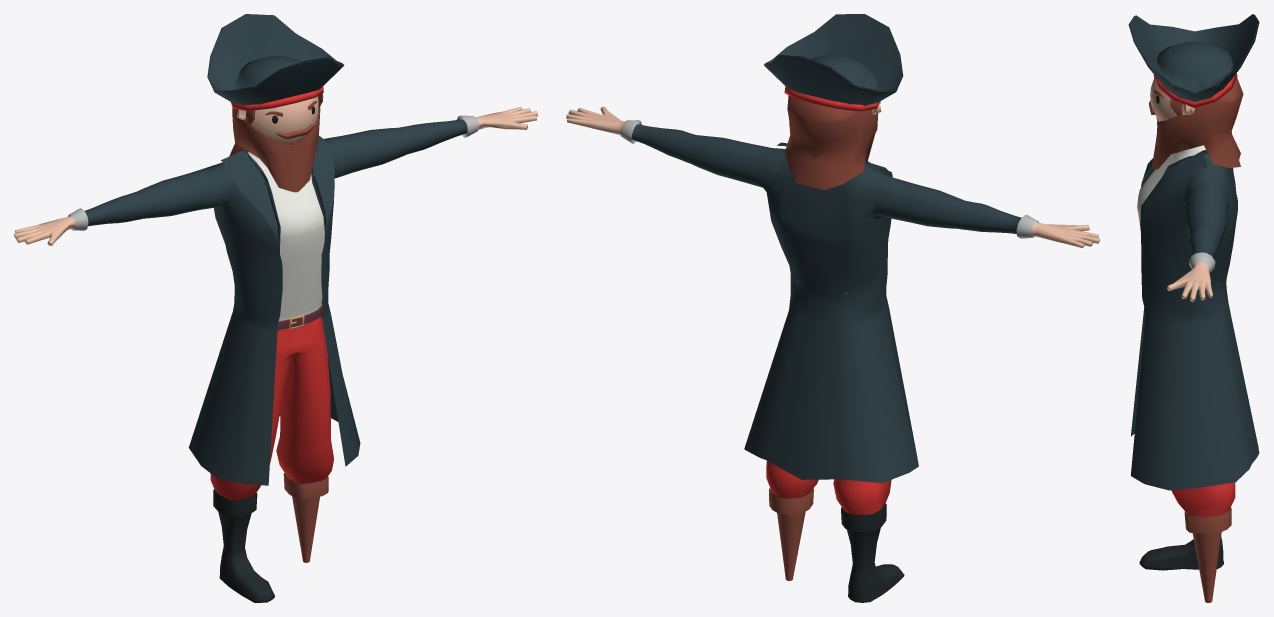
The model's file is low_poly_stylized_pirate_character.glb.
The picture shows the model from 3 angles, left to right: view 1: azimuth 30°, elevation 25°; view 2: azimuth 150°, elevation 25°; view 3: azimuth 270°, elevation 25°; orthographic projection. The views are drawn at different scales.
Parts seen in each view (by area): view 1: polySurface26, Character02_correction:polySurface27, polySurface36, polySurface29, polySurface31, polySurface34; view 2: polySurface26, polySurface36, Character02_correction:polySurface27, polySurface31, pPipe1; view 3: polySurface26, polySurface36, Character02_correction:polySurface27, polySurface31, polySurface29, polySurface34, pPipe1.
Part boxes in pixels (x1,y1,x2,y2): polySurface26: [14, 107, 537, 485]; Character02_correction:polySurface27: [210, 316, 333, 602]; polySurface36: [207, 14, 344, 105]; polySurface29: [247, 152, 324, 321]; polySurface31: [229, 94, 322, 192]; polySurface34: [237, 93, 323, 144]; polySurface26: [566, 106, 1099, 482]; polySurface36: [764, 14, 903, 105]; Character02_correction:polySurface27: [766, 460, 904, 602]; polySurface31: [785, 96, 880, 190]; pPipe1: [784, 86, 879, 111]; polySurface26: [1130, 150, 1259, 490]; polySurface36: [1128, 14, 1259, 101]; Character02_correction:polySurface27: [1139, 482, 1235, 602]; polySurface31: [1151, 77, 1243, 169]; polySurface29: [1137, 145, 1218, 283]; polySurface34: [1150, 78, 1194, 121]; pPipe1: [1153, 73, 1237, 107].
Bounding box in the file's own units: 0.8407 × 0.8342 × 0.1762.
